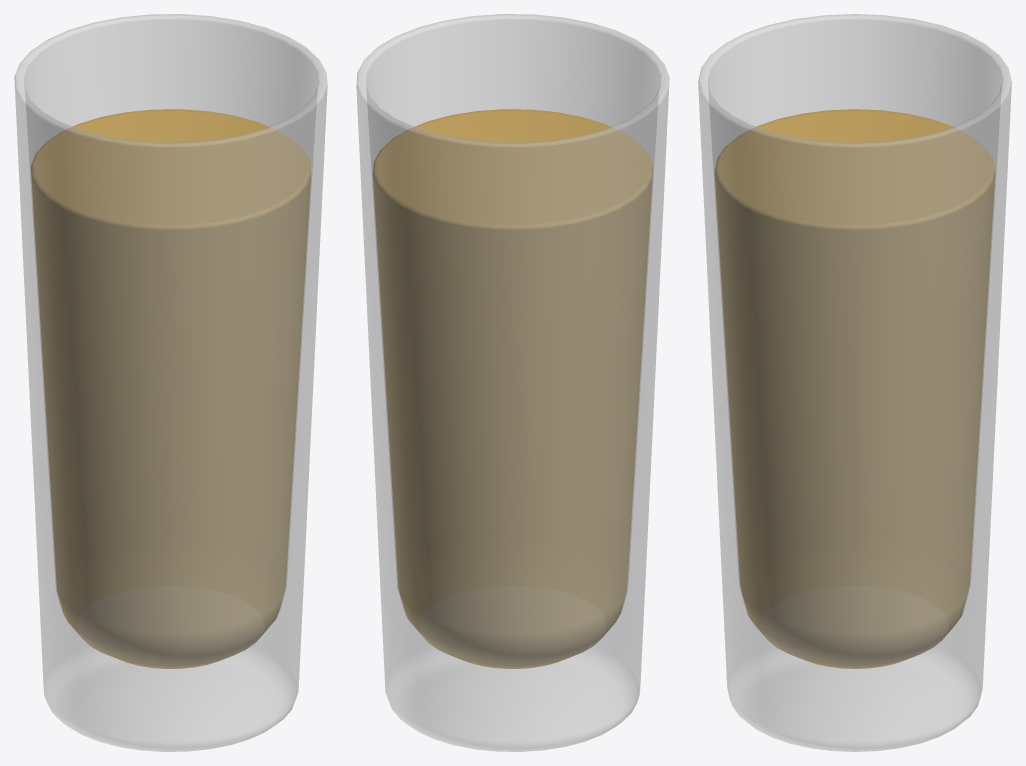
Rendered from realjuice.glb.
The picture shows the model from 3 angles, left to right: view 1: azimuth 30°, elevation 25°; view 2: azimuth 150°, elevation 25°; view 3: azimuth 270°, elevation 25°; orthographic projection.
Parts seen in each view (by area): view 1: Sweep; view 2: Sweep; view 3: Sweep.
Part boxes in pixels (x1,y1,x2,y2): Sweep: (14,14,327,751); Sweep: (356,14,669,751); Sweep: (698,14,1011,751).
Bounding box in the file's own units: 0.0637 × 0.14 × 0.0637.
